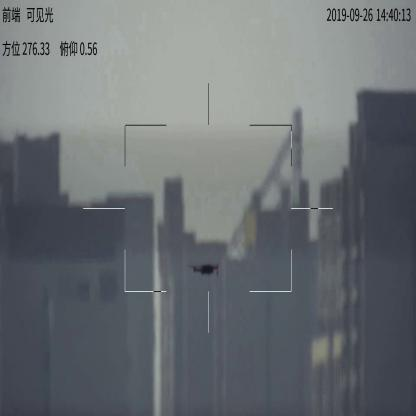uav: (188, 260, 220, 278)
